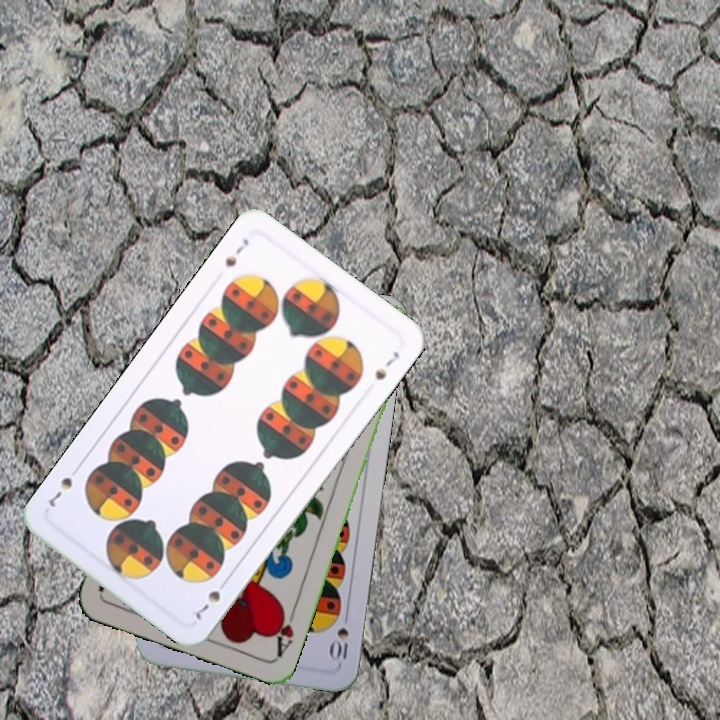HA: (269, 602, 299, 660)
S10: (326, 624, 351, 666)
S7: (187, 574, 231, 623), (221, 234, 252, 270)
